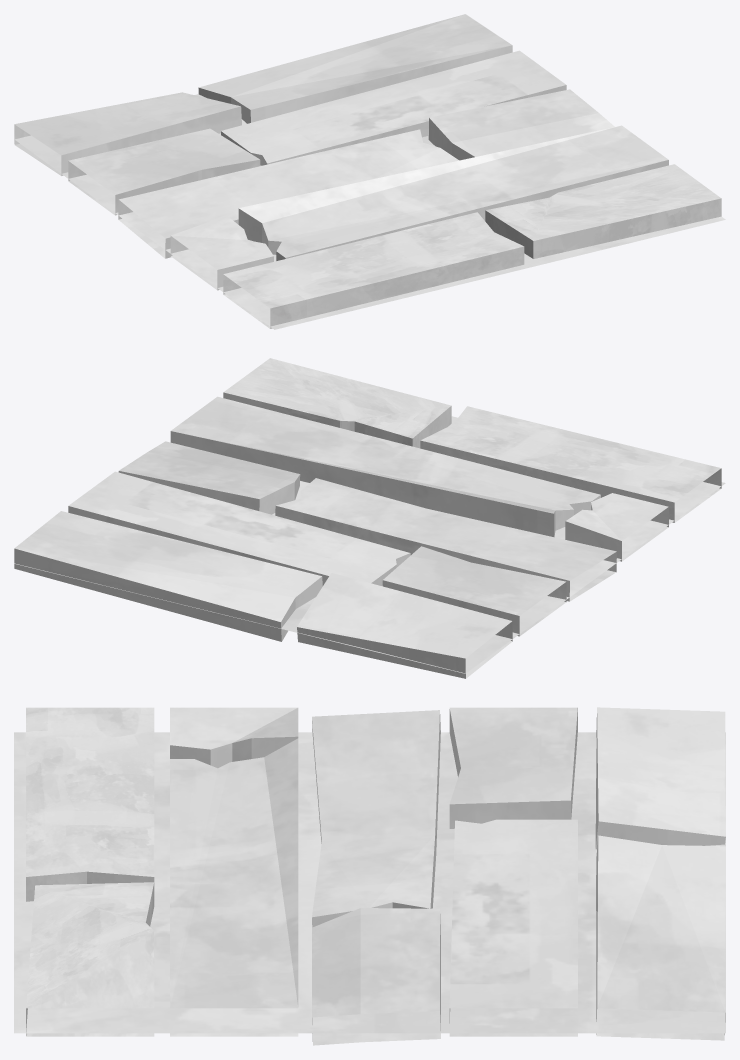
File: Floor_Wood.fbx
3 renders of one model, top to bottom at view 1: azimuth 30°, elevation 25°; view 2: azimuth 150°, elevation 25°; view 3: azimuth 270°, elevation 25°, orthographic. The views are drawn at different scales.
Visible parts, largest first — view 1: polySurface183; view 2: polySurface183; view 3: polySurface183.
Part boxes in pixels (left/top/right/bottom): polySurface183: left=14, top=14, right=725, bottom=329; polySurface183: left=14, top=358, right=725, bottom=678; polySurface183: left=14, top=707, right=725, bottom=1045.
Size of the model in its own units: 3.84 by 0.3475 by 3.84.
